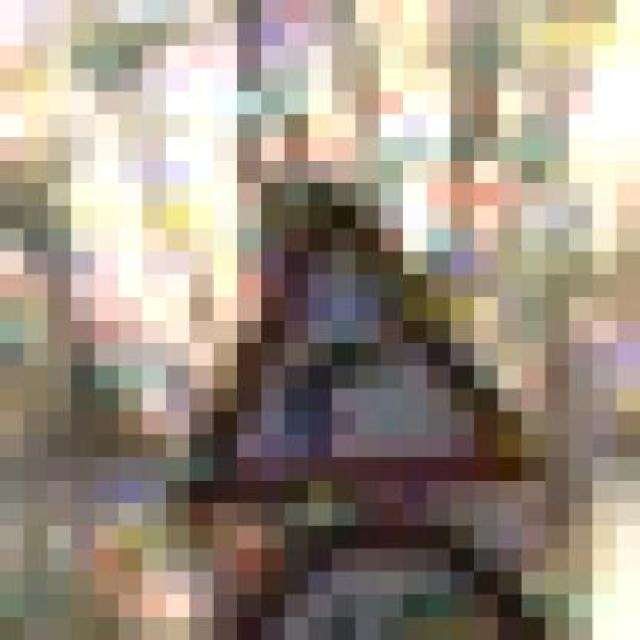Dangerous Rright Curve Ahead: (94, 137, 546, 503)
